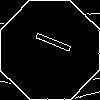I: (25, 25, 73, 56)
